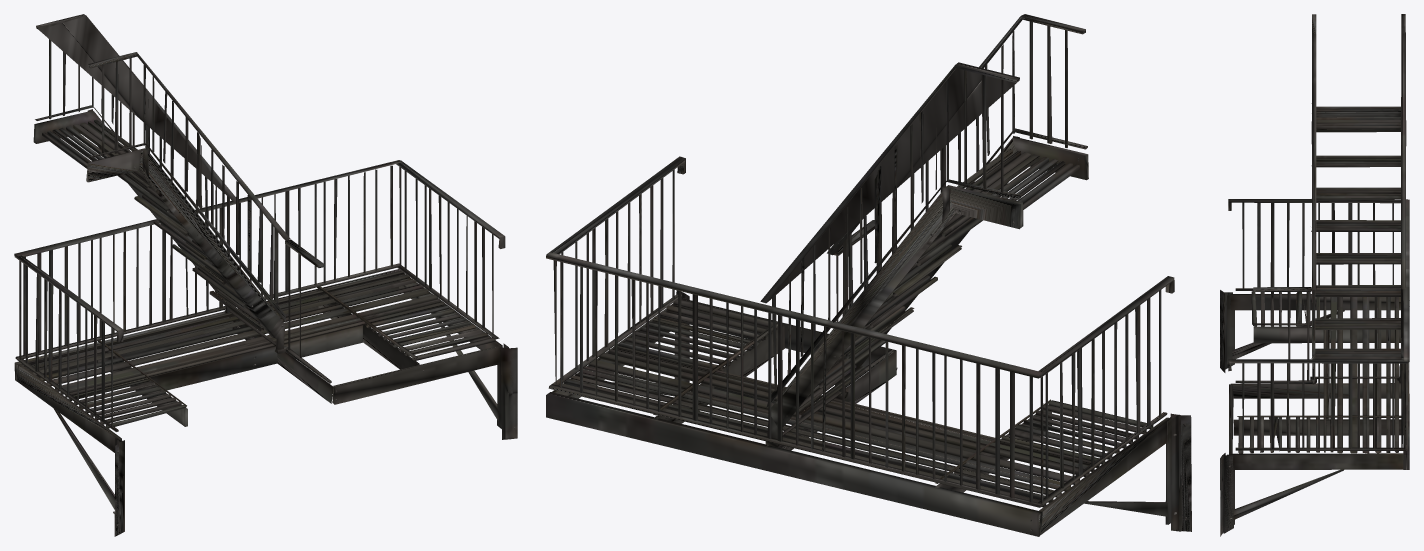
The model's file is fire_escape_smart_top.glb.
The picture shows the model from 3 angles, left to right: view 1: azimuth 30°, elevation 25°; view 2: azimuth 150°, elevation 25°; view 3: azimuth 270°, elevation 25°; orthographic projection. The views are drawn at different scales.
Parts seen in each view (by area): view 1: geometry_0; view 2: geometry_0; view 3: geometry_0.
Boxes of the visible parts, <box> form: geometry_0: <box>14,14,517,536</box>; geometry_0: <box>546,14,1191,536</box>; geometry_0: <box>1220,14,1409,536</box>.
Size of the model in its own units: 3.17 by 3.2 by 1.51.
1 material, 1 textured.
